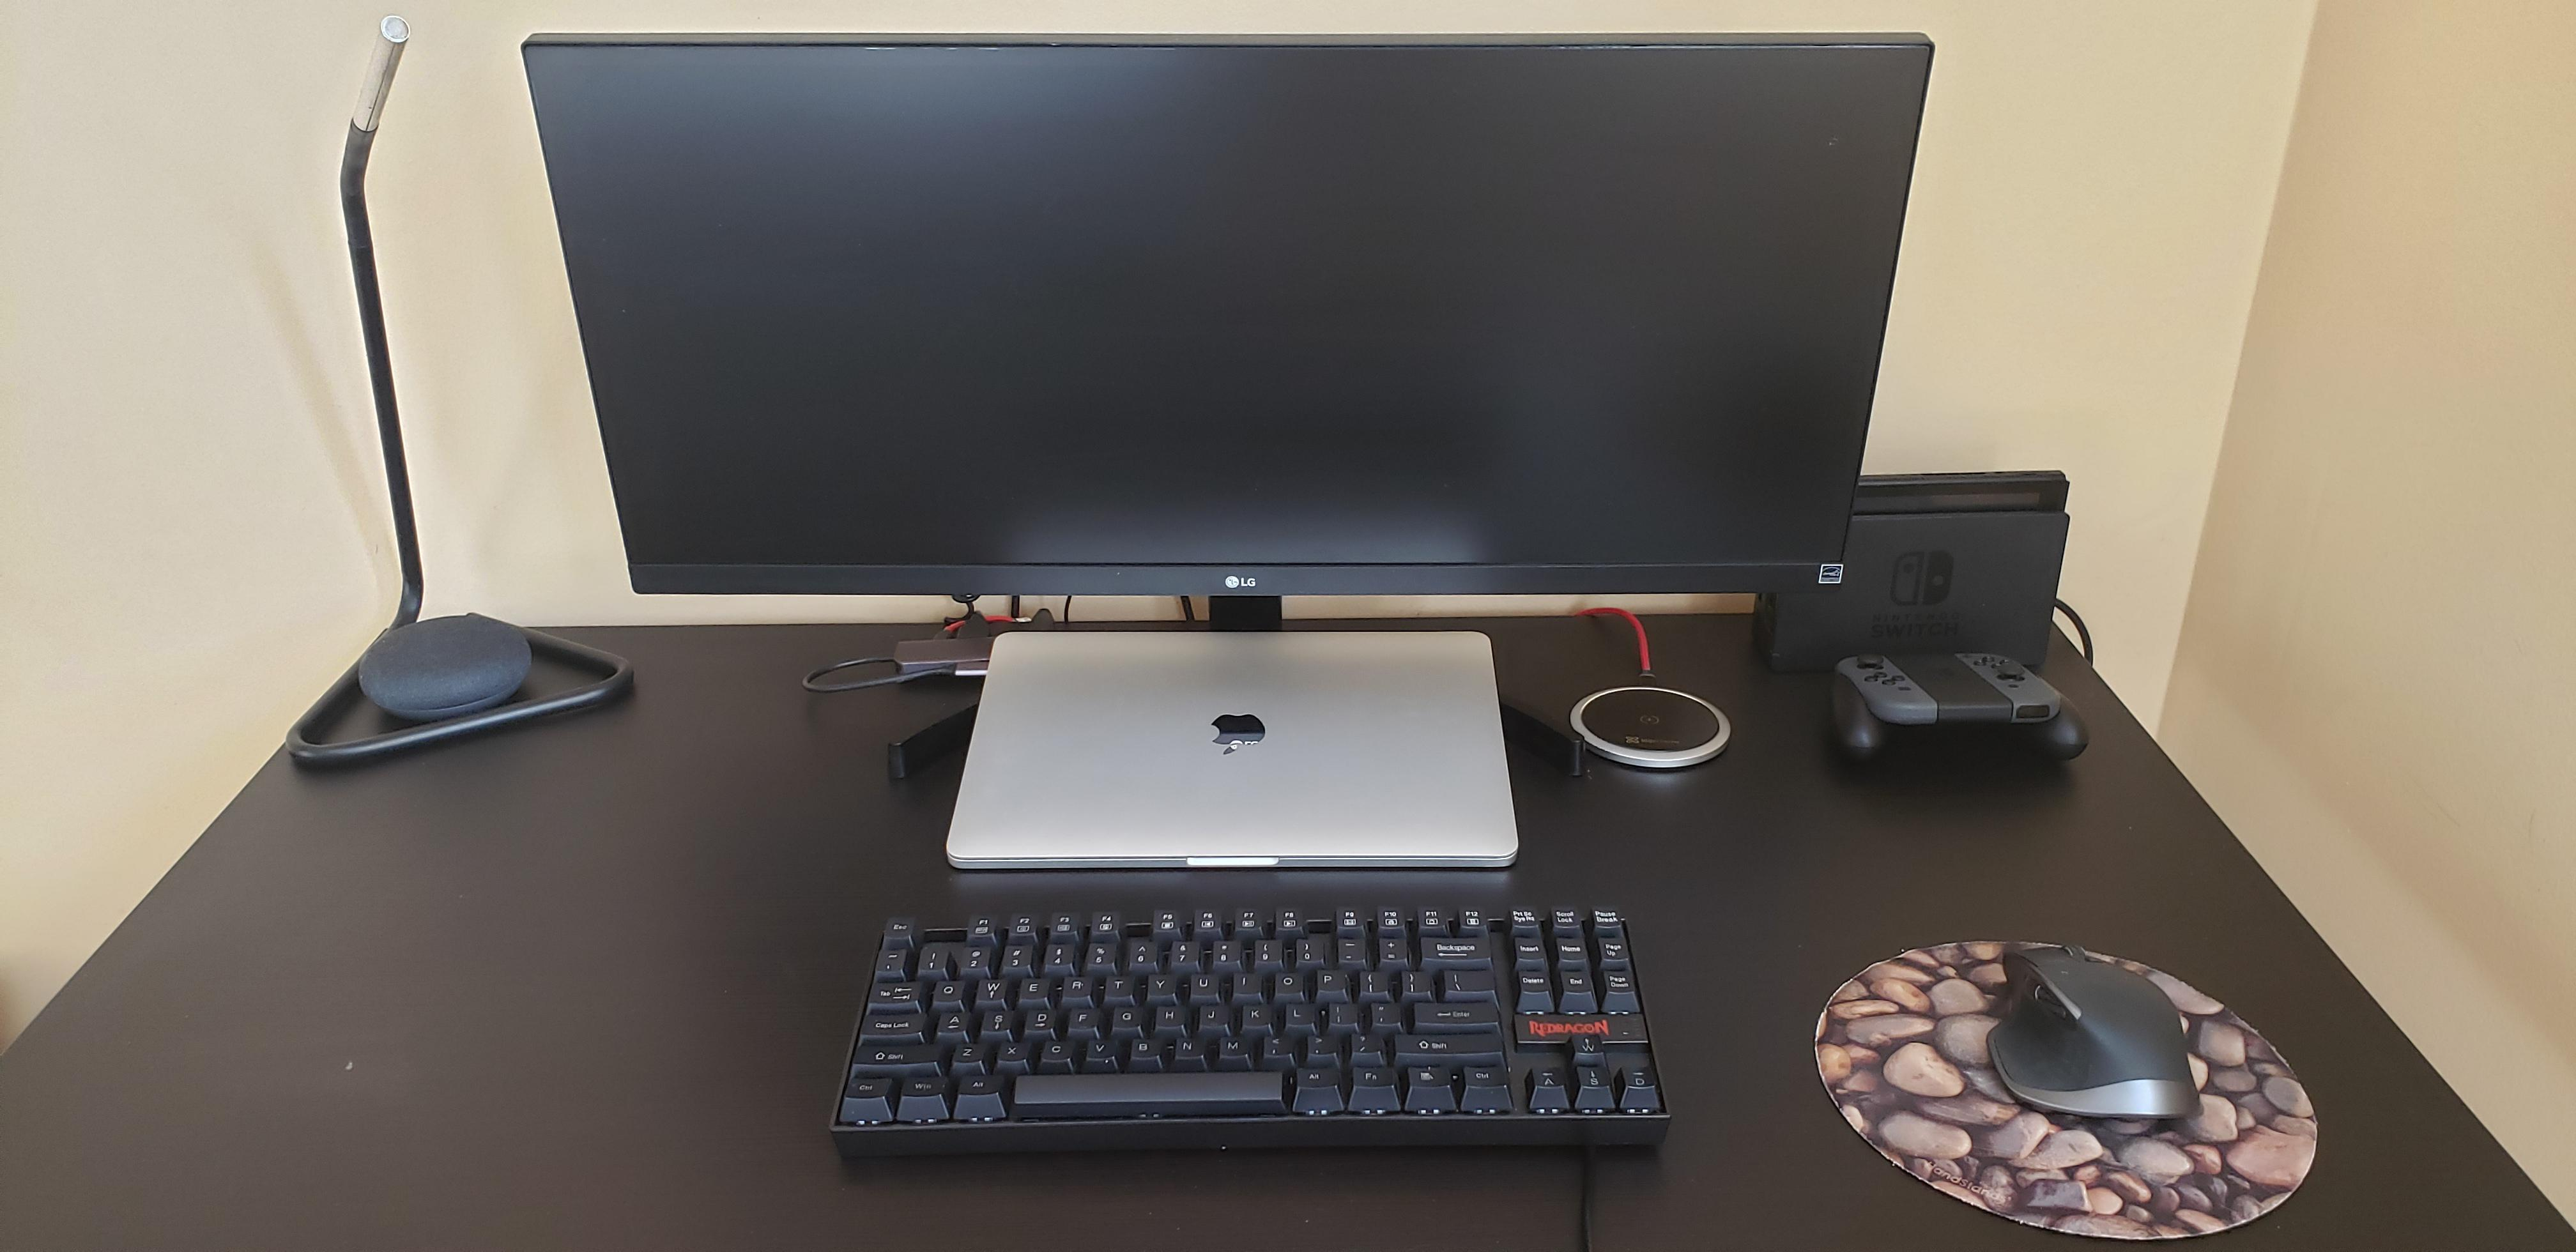Cellphone Charger (Wireless): (1571, 688, 1736, 769)
Desk (Generic): (0, 623, 2576, 1247)
Gaming Console: (1745, 467, 2070, 672)
Gaming Controller: (1828, 654, 2090, 772)
Keyboard (Generic): (831, 904, 1674, 1160)
Lamp (Desk): (281, 5, 631, 769)
Laptop (OSX): (943, 634, 1518, 874)
Monitor (Landscape): (521, 28, 1935, 603)
Mouse (Generic): (1985, 945, 2206, 1116)
Mousepad (Generic): (1809, 935, 2321, 1242)
